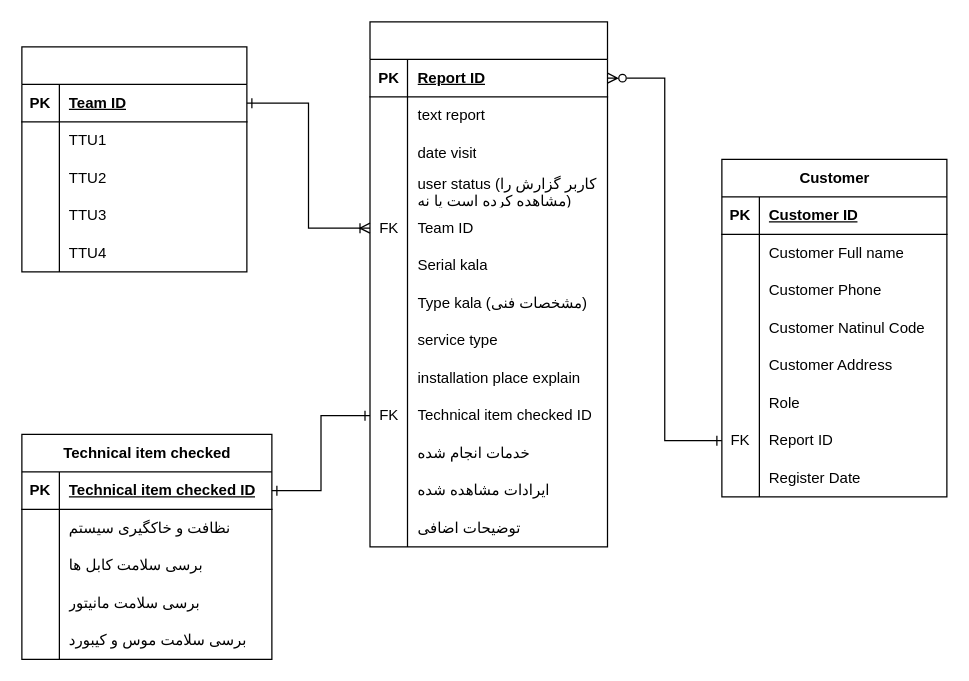
The diagram is 969 pixels wide and 681 high, and some of its shapes have lost their labels. The box of each missing label's shape, as (x1, y1, x2, y2) in pixels:
Technical report: (369, 21, 608, 547)
Technical Team: (21, 46, 247, 272)
